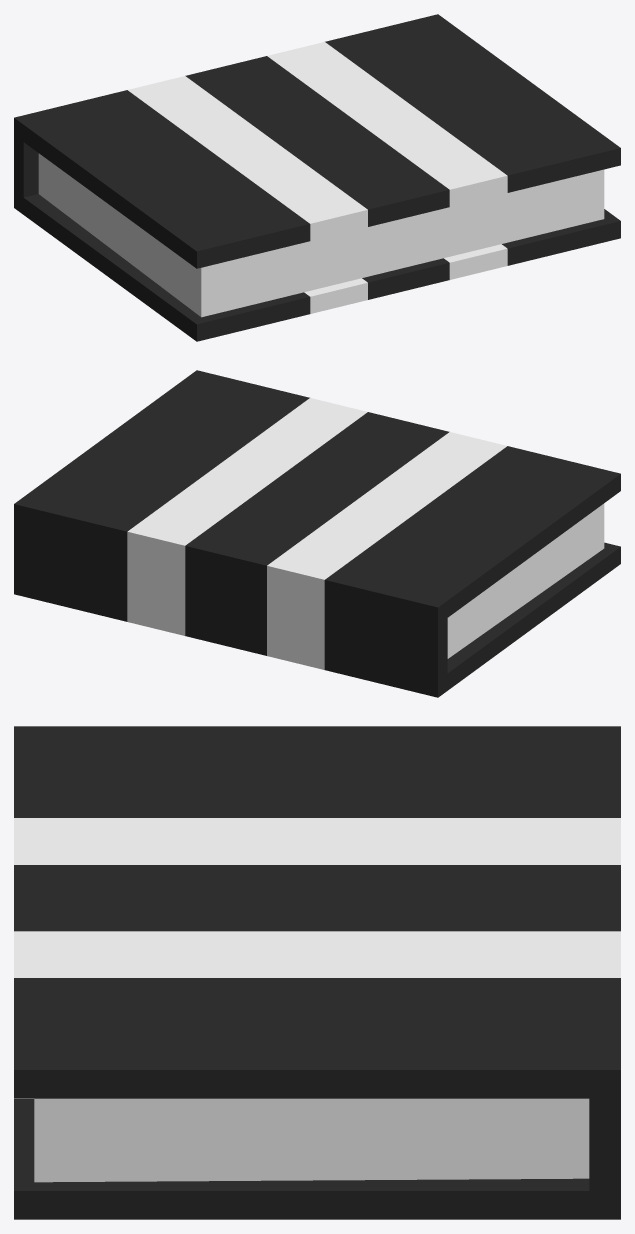
File: Book_12.fbx
3 views of the same model, one above another, from view 1: azimuth 30°, elevation 25°; view 2: azimuth 150°, elevation 25°; view 3: azimuth 270°, elevation 25° (orthographic). The views are drawn at different scales.
Parts seen in each view (by area): view 1: Book_12; view 2: Book_12; view 3: Book_12.
Boxes of the visible parts, x1,y1,x2,y2 form: Book_12: (14, 14, 620, 341); Book_12: (14, 370, 620, 697); Book_12: (14, 726, 620, 1219).
Bounding box in the file's own units: 0.2273 × 0.0462 × 0.1697.
